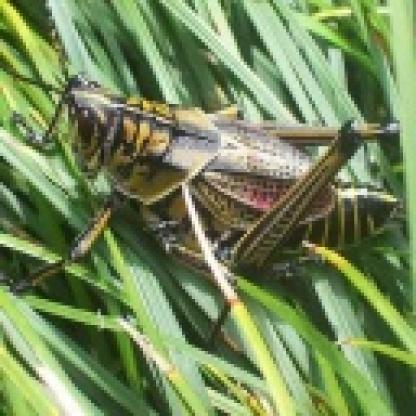grasshopper: (3, 61, 416, 350)
